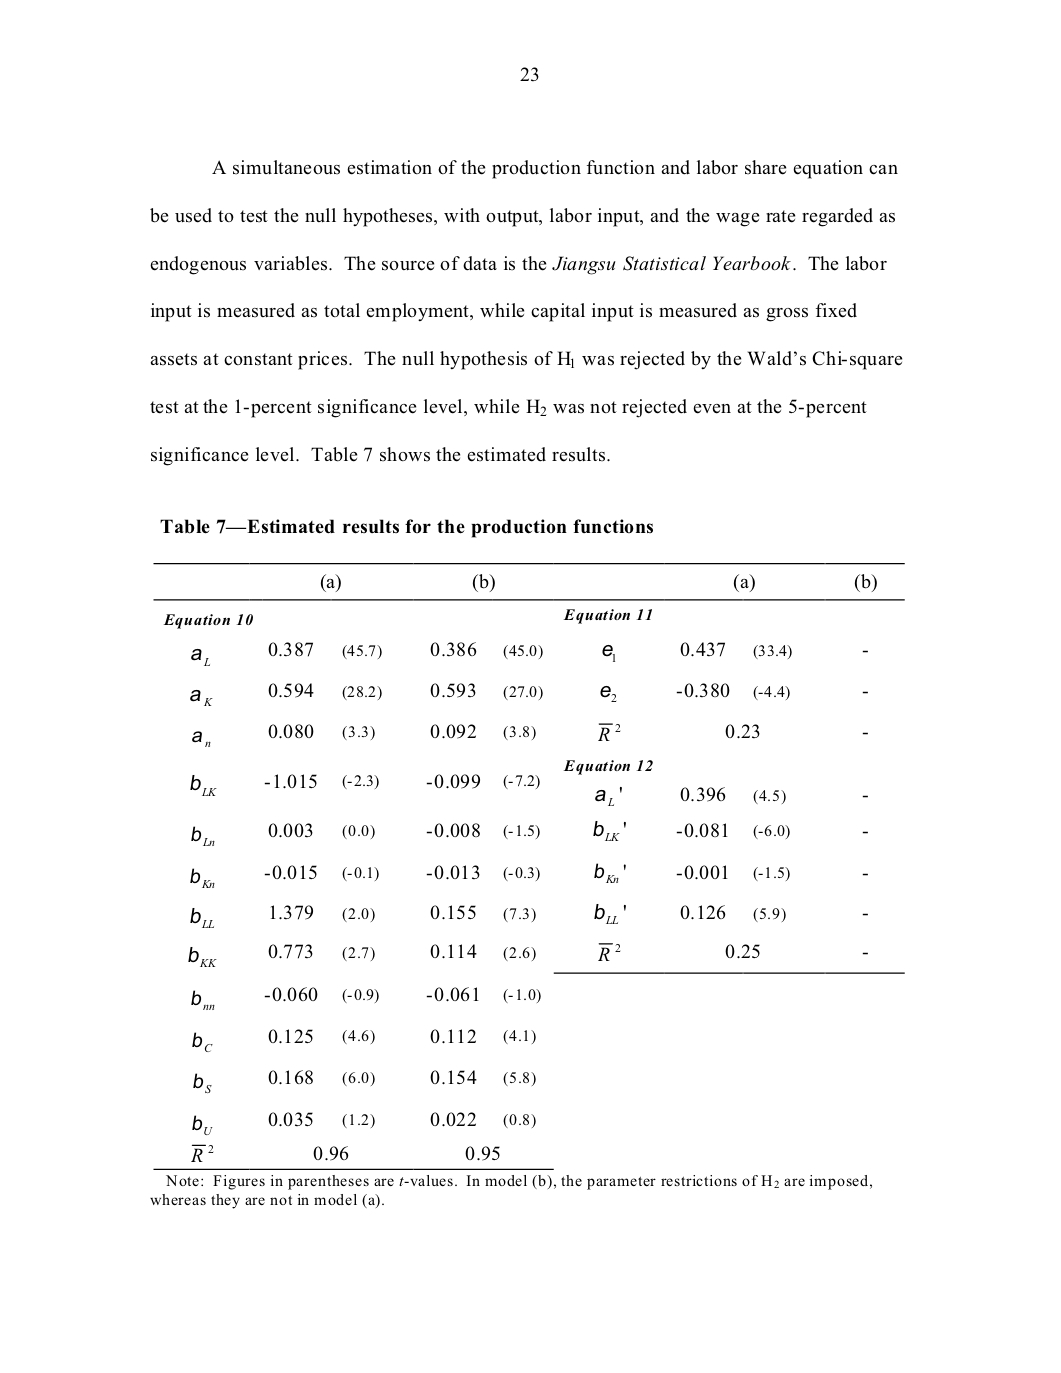Table: (153, 563, 904, 1169)
